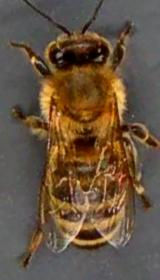varroa_mite: (100, 146, 134, 186)
